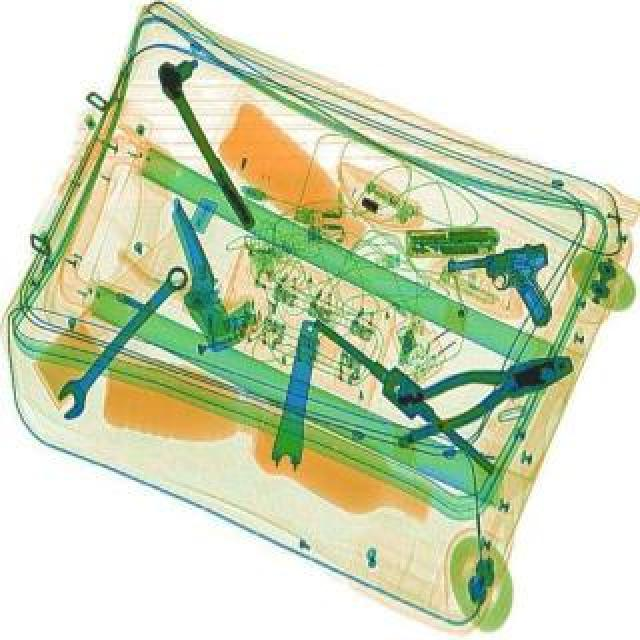gun: (446, 244, 562, 342)
scissors: (46, 262, 202, 426)
wrench: (384, 340, 586, 450)
